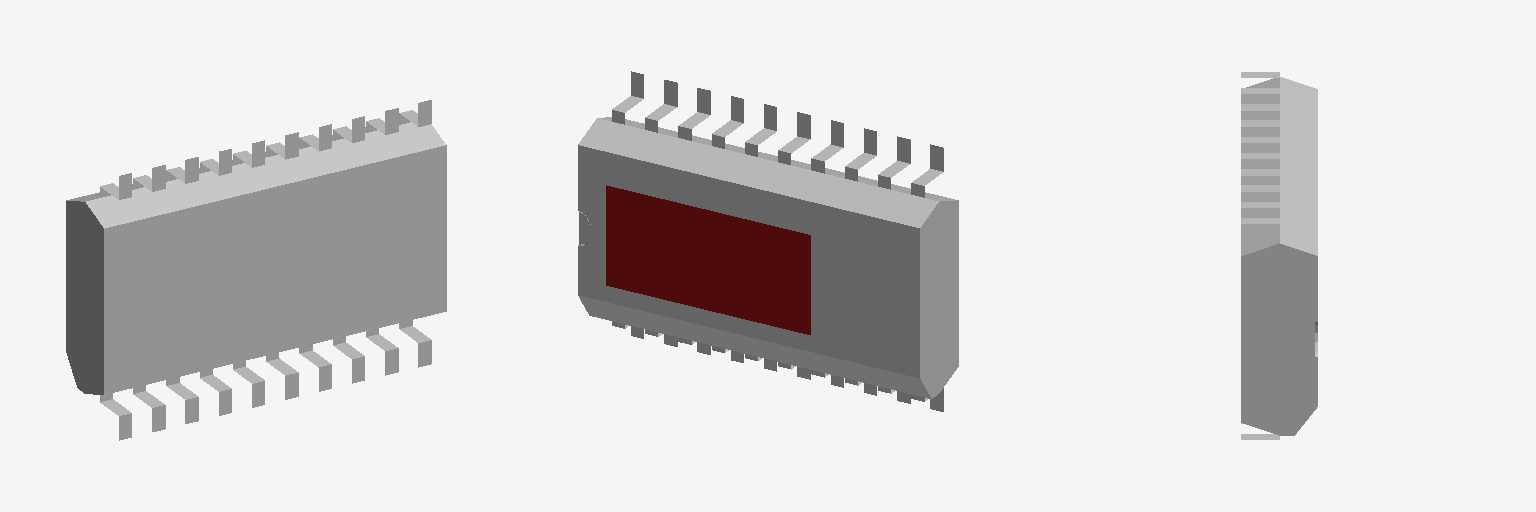
3 renders of one model, left to right at view 1: azimuth 30°, elevation 25°; view 2: azimuth 150°, elevation 25°; view 3: azimuth 270°, elevation 25°, orthographic.
Visible parts, largest first — view 1: ShapeIndexedFaceSet_ShapeIndexedFaceSet.001, ShapeIndexedFaceSet.018_ShapeIndexedFaceSet.019, ShapeIndexedFaceSet.015_ShapeIndexedFaceSet.016, ShapeIndexedFaceSet.022_ShapeIndexedFaceSet, ShapeIndexedFaceSet.019_ShapeIndexedFaceSet.020, ShapeIndexedFaceSet.014_ShapeIndexedFaceSet.015, ShapeIndexedFaceSet.021_ShapeIndexedFaceSet.022, ShapeIndexedFaceSet.013_ShapeIndexedFaceSet.014, ShapeIndexedFaceSet.016_ShapeIndexedFaceSet.017, ShapeIndexedFaceSet.017_ShapeIndexedFaceSet.018, ShapeIndexedFaceSet.020_ShapeIndexedFaceSet.021, ShapeIndexedFaceSet.007_ShapeIndexedFaceSet.008 (+9 smaller); view 2: ShapeIndexedFaceSet_ShapeIndexedFaceSet.001, ShapeIndexedFaceSet.001_ShapeIndexedFaceSet.002, ShapeIndexedFaceSet.012_ShapeIndexedFaceSet.013, ShapeIndexedFaceSet.005_ShapeIndexedFaceSet.006, ShapeIndexedFaceSet.008_ShapeIndexedFaceSet.009, ShapeIndexedFaceSet.006_ShapeIndexedFaceSet.007, ShapeIndexedFaceSet.011_ShapeIndexedFaceSet.012, ShapeIndexedFaceSet.009_ShapeIndexedFaceSet.010, ShapeIndexedFaceSet.007_ShapeIndexedFaceSet.008, ShapeIndexedFaceSet.010_ShapeIndexedFaceSet.011, ShapeIndexedFaceSet.004_ShapeIndexedFaceSet.005, ShapeIndexedFaceSet.003_ShapeIndexedFaceSet.004; view 3: ShapeIndexedFaceSet_ShapeIndexedFaceSet.001.
Boxes of the visible parts, x1,y1,x2,y2 form: ShapeIndexedFaceSet_ShapeIndexedFaceSet.001: [66, 122, 446, 394]; ShapeIndexedFaceSet.018_ShapeIndexedFaceSet.019: [399, 320, 431, 367]; ShapeIndexedFaceSet.015_ShapeIndexedFaceSet.016: [166, 377, 198, 423]; ShapeIndexedFaceSet.022_ShapeIndexedFaceSet: [266, 353, 298, 399]; ShapeIndexedFaceSet.019_ShapeIndexedFaceSet.020: [366, 328, 398, 375]; ShapeIndexedFaceSet.014_ShapeIndexedFaceSet.015: [133, 385, 165, 431]; ShapeIndexedFaceSet.021_ShapeIndexedFaceSet.022: [299, 344, 331, 391]; ShapeIndexedFaceSet.013_ShapeIndexedFaceSet.014: [100, 393, 131, 440]; ShapeIndexedFaceSet.016_ShapeIndexedFaceSet.017: [200, 369, 231, 415]; ShapeIndexedFaceSet.017_ShapeIndexedFaceSet.018: [233, 361, 264, 407]; ShapeIndexedFaceSet.020_ShapeIndexedFaceSet.021: [333, 336, 364, 383]; ShapeIndexedFaceSet.007_ShapeIndexedFaceSet.008: [399, 100, 431, 126]; ShapeIndexedFaceSet_ShapeIndexedFaceSet.001: [578, 117, 958, 398]; ShapeIndexedFaceSet.001_ShapeIndexedFaceSet.002: [606, 185, 810, 334]; ShapeIndexedFaceSet.012_ShapeIndexedFaceSet.013: [911, 144, 943, 197]; ShapeIndexedFaceSet.005_ShapeIndexedFaceSet.006: [678, 88, 710, 140]; ShapeIndexedFaceSet.008_ShapeIndexedFaceSet.009: [778, 112, 810, 164]; ShapeIndexedFaceSet.006_ShapeIndexedFaceSet.007: [645, 80, 677, 132]; ShapeIndexedFaceSet.011_ShapeIndexedFaceSet.012: [878, 136, 910, 189]; ShapeIndexedFaceSet.009_ShapeIndexedFaceSet.010: [811, 120, 843, 173]; ShapeIndexedFaceSet.007_ShapeIndexedFaceSet.008: [612, 71, 643, 124]; ShapeIndexedFaceSet.010_ShapeIndexedFaceSet.011: [845, 128, 876, 181]; ShapeIndexedFaceSet.004_ShapeIndexedFaceSet.005: [712, 96, 743, 148]; ShapeIndexedFaceSet.003_ShapeIndexedFaceSet.004: [745, 104, 776, 156]; ShapeIndexedFaceSet_ShapeIndexedFaceSet.001: [1241, 77, 1317, 435].
Size of the model in its own units: 13.06 by 9.65 by 2.56.